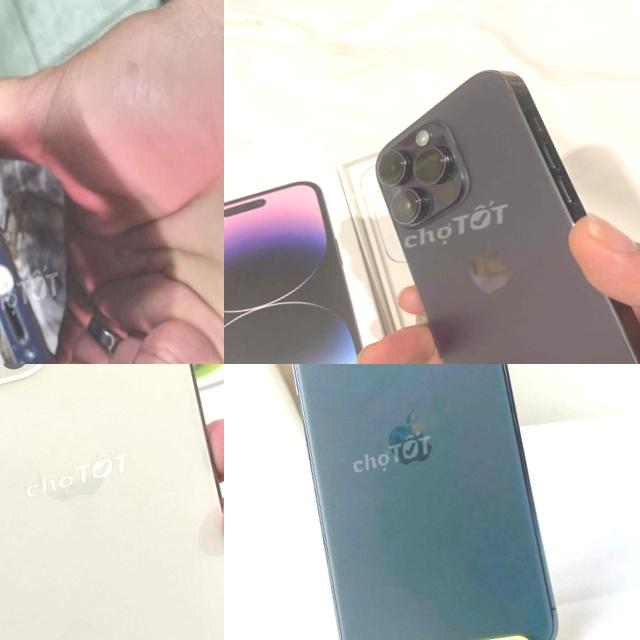gen_11: (234, 364, 591, 640)
gen_12_13: (0, 80, 117, 364)
gen_14: (340, 37, 640, 364), (0, 364, 224, 640)
